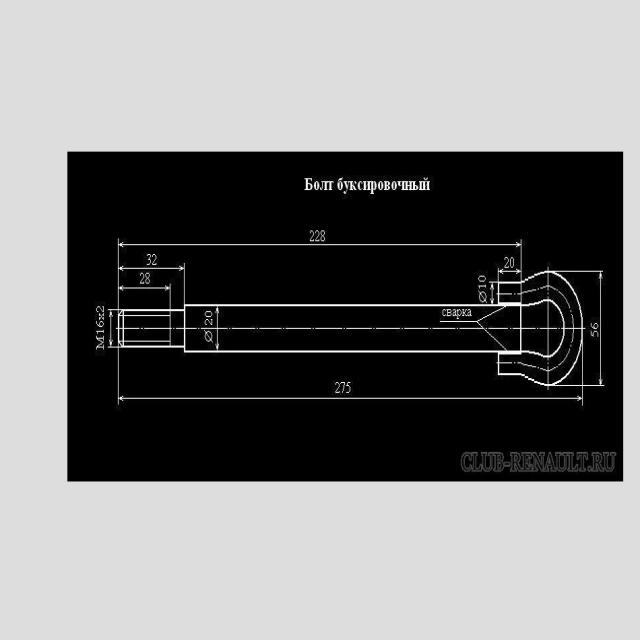marking_line: (114, 236, 496, 306), (117, 234, 522, 282), (114, 355, 495, 403), (114, 388, 585, 406), (118, 265, 186, 304), (585, 268, 604, 390), (116, 282, 172, 307), (106, 307, 117, 350), (498, 263, 522, 281), (489, 280, 495, 304)
numeric: (340, 379, 346, 396), (319, 230, 326, 243), (478, 274, 487, 283), (95, 304, 104, 313), (309, 230, 315, 243), (140, 271, 146, 284), (145, 272, 151, 285), (146, 253, 152, 266), (152, 252, 158, 265), (204, 318, 213, 326), (204, 310, 213, 318), (335, 380, 340, 394), (346, 380, 351, 394), (510, 256, 515, 269), (591, 322, 600, 329), (504, 256, 509, 268), (97, 320, 104, 328), (591, 331, 599, 338), (315, 230, 319, 242), (478, 284, 487, 289)
special_symbol: (204, 329, 214, 343), (479, 290, 487, 304)
